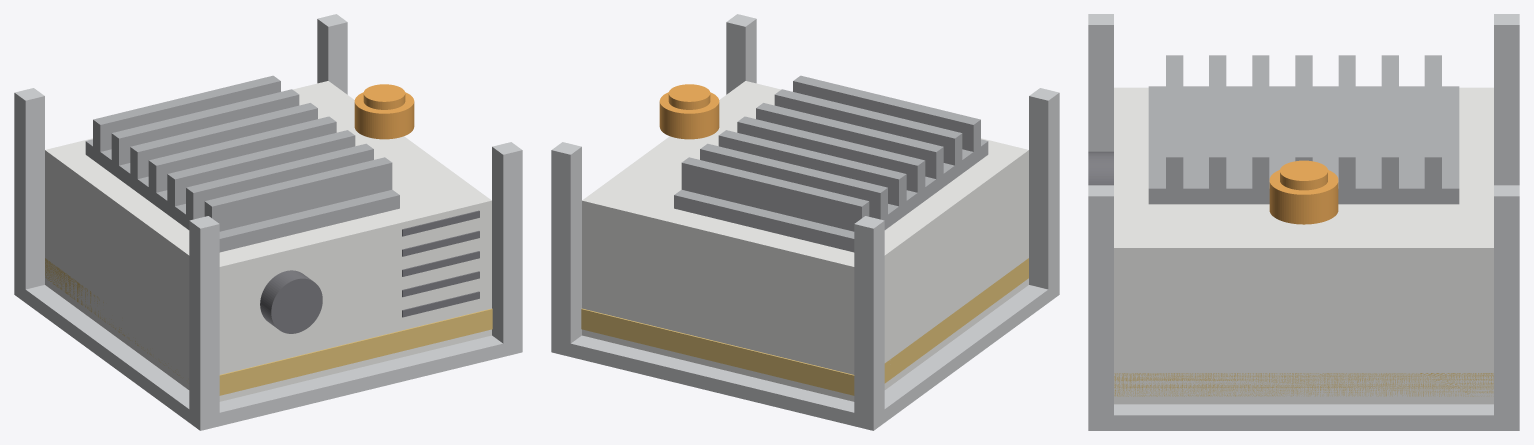
Rendered from sci00_environment_suite.glb.
3 views of the same model, side by side, from view 1: azimuth 30°, elevation 25°; view 2: azimuth 150°, elevation 25°; view 3: azimuth 270°, elevation 25° (orthographic). The views are drawn at different scales.
Parts seen in each view (by area): view 1: body, sensor_top, slot_frame, gold_trim, vent_grille, camera, port_1; view 2: body, sensor_top, slot_frame, gold_trim, port_1; view 3: body, sensor_top, slot_frame, gold_trim, port_1, camera.
Part boxes in pixels (<box>): body: <box>45,81,491,401</box>; sensor_top: <box>85,75,399,252</box>; slot_frame: <box>14,14,522,430</box>; gold_trim: <box>45,258,492,395</box>; vent_grille: <box>402,210,479,317</box>; camera: <box>260,270,322,333</box>; port_1: <box>354,84,414,139</box>; body: <box>582,81,1028,401</box>; sensor_top: <box>674,75,988,252</box>; slot_frame: <box>551,14,1059,430</box>; gold_trim: <box>581,258,1028,395</box>; port_1: <box>659,84,719,139</box>; body: <box>1114,87,1493,404</box>; sensor_top: <box>1148,55,1459,204</box>; slot_frame: <box>1088,14,1519,430</box>; gold_trim: <box>1114,373,1493,396</box>; port_1: <box>1269,160,1338,224</box>; camera: <box>1088,151,1113,185</box>.
Size of the model in its own units: 0.5 by 0.3 by 0.5.
